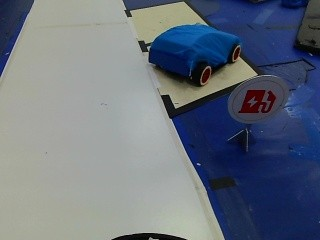battery: (233, 76, 290, 127)
car: (148, 25, 245, 85)
